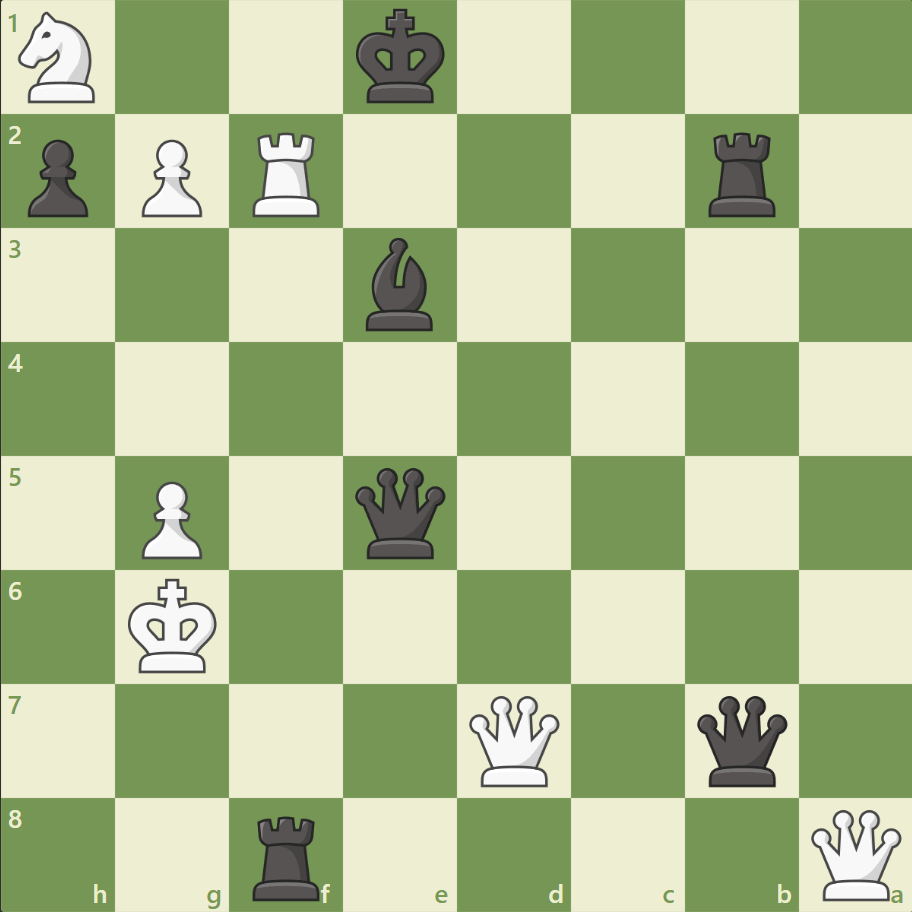K: (124, 571, 224, 679)
N: (11, 7, 108, 110)
P: (133, 473, 208, 564), (133, 132, 208, 223)
Q: (805, 804, 904, 903), (464, 690, 563, 789)
R: (246, 125, 329, 222)
b: (358, 233, 442, 336)
k: (351, 4, 451, 112)
p: (20, 132, 95, 223)
q: (691, 690, 790, 789), (351, 463, 450, 562)
r: (246, 806, 329, 904), (700, 125, 783, 222)
